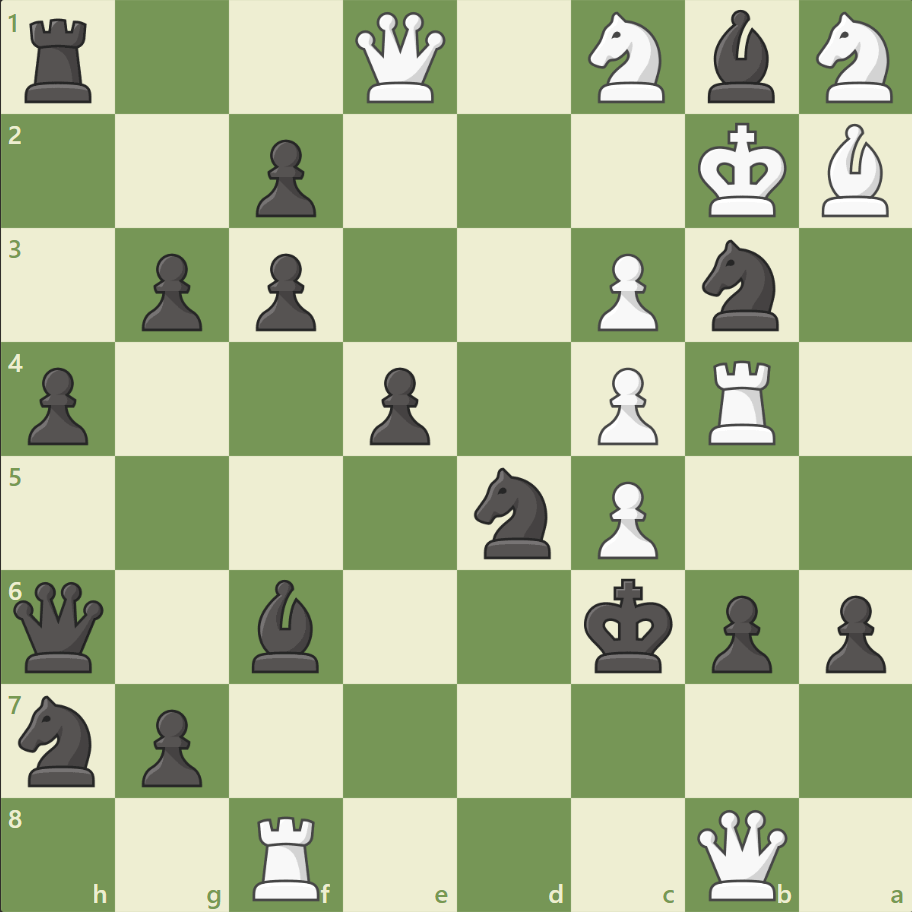B: (812, 120, 896, 222)
K: (692, 117, 792, 225)
N: (806, 7, 903, 110), (579, 7, 676, 110)
P: (588, 473, 662, 564), (588, 359, 662, 450), (588, 246, 662, 337)
Q: (691, 804, 790, 903), (351, 9, 450, 108)
R: (246, 806, 329, 904), (700, 352, 783, 449)
b: (698, 6, 782, 109), (244, 574, 328, 676)
k: (579, 571, 679, 679)
n: (11, 688, 108, 791), (465, 461, 562, 564), (692, 234, 789, 337)
p: (133, 700, 208, 791), (701, 586, 776, 677), (20, 359, 95, 450), (247, 246, 322, 337), (133, 246, 208, 337), (247, 132, 322, 223), (815, 586, 889, 677), (361, 359, 435, 450)
q: (10, 576, 109, 676)
r: (19, 12, 102, 109)
